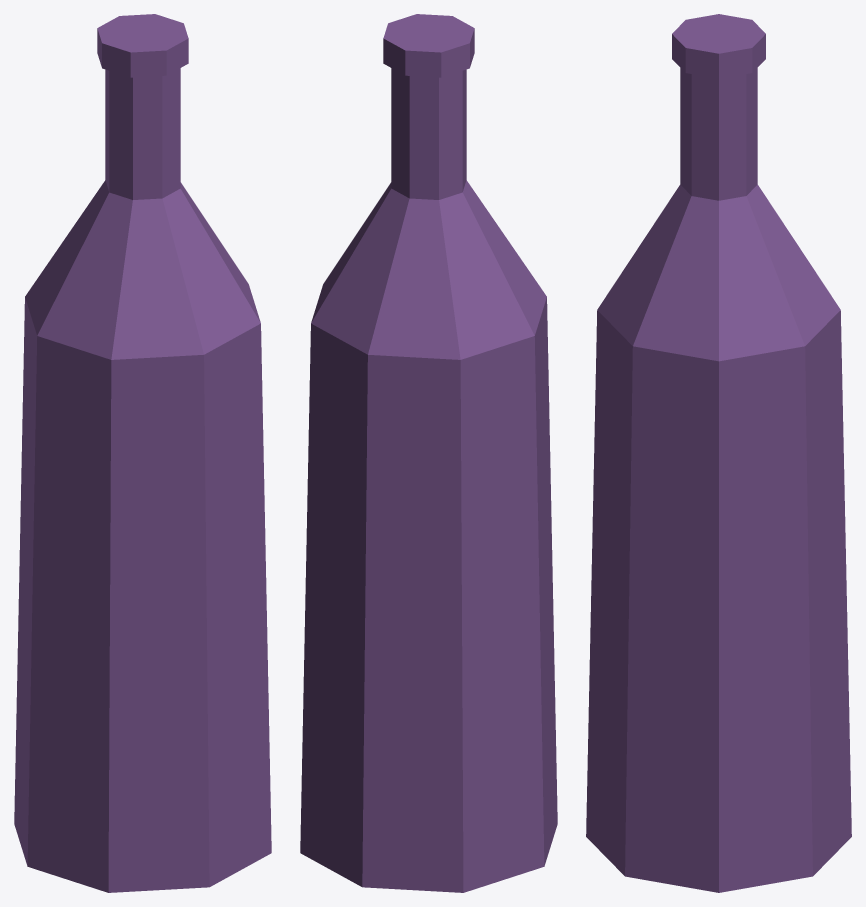
File: bottle-violet.glb
3 views of the same model, side by side, from view 1: azimuth 30°, elevation 25°; view 2: azimuth 150°, elevation 25°; view 3: azimuth 270°, elevation 25° (orthographic).
Parts seen in each view (by area): view 1: bottle; view 2: bottle; view 3: bottle.
Boxes of the visible parts, x1,y1,x2,y2 form: bottle: [14, 14, 271, 892]; bottle: [300, 14, 557, 892]; bottle: [586, 14, 851, 892].
Size of the model in its own units: 0.096 by 0.32 by 0.096.
